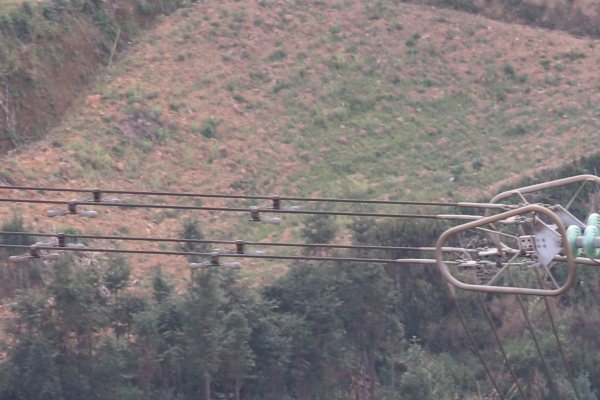damper: (30, 229, 87, 250), (188, 251, 243, 272), (44, 198, 98, 219), (7, 243, 63, 263), (246, 193, 302, 212), (211, 238, 265, 257), (68, 186, 121, 204)
damper_defect: (242, 206, 282, 226)
